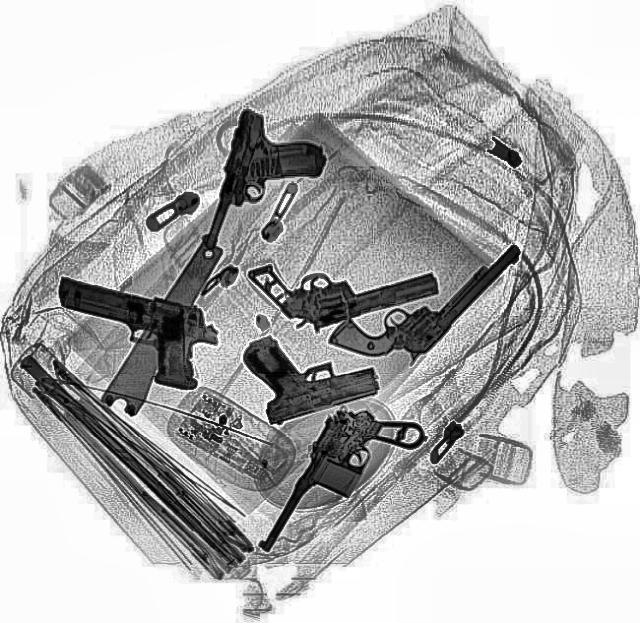Gun: (322, 198, 524, 392), (254, 390, 430, 586), (195, 103, 335, 269), (246, 223, 442, 341), (36, 273, 225, 393), (234, 310, 384, 427)
